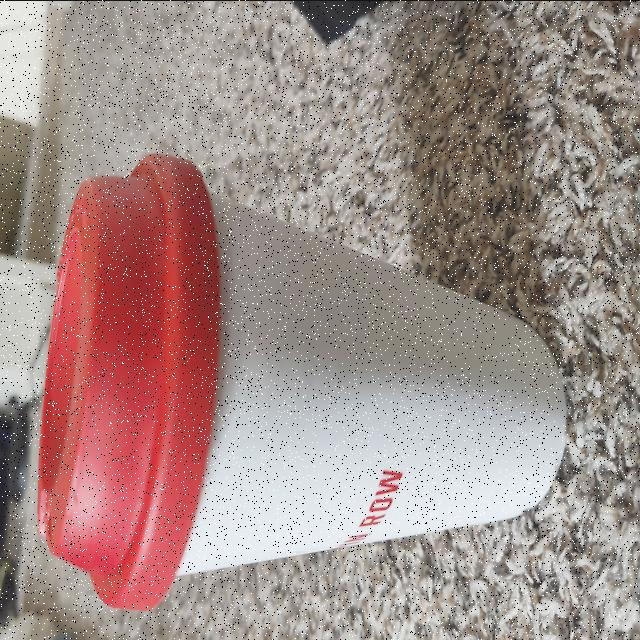mug: (29, 152, 569, 606)
